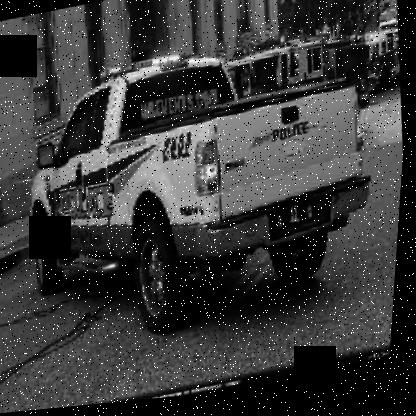emergency: (11, 13, 398, 363), (211, 22, 338, 155), (317, 30, 381, 129), (351, 23, 404, 106)
